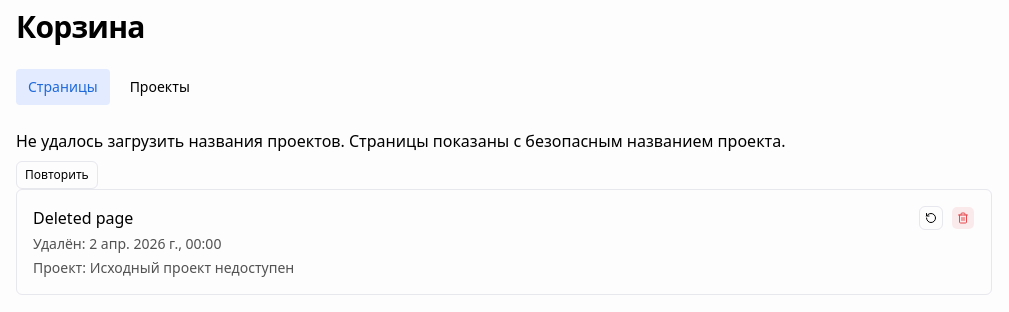
Test: корзина › оставляет страницы видимыми с fallback и retry при ошибке списка активных проектов
Expected: the text "Deleted page" is shown, [33,207,133,229]
Expected: the text "Проект: Исходный проект недоступен" is shown, [33,258,294,278]
Click the button "Повторить".
click(57, 175)  # box [16,161,98,189]
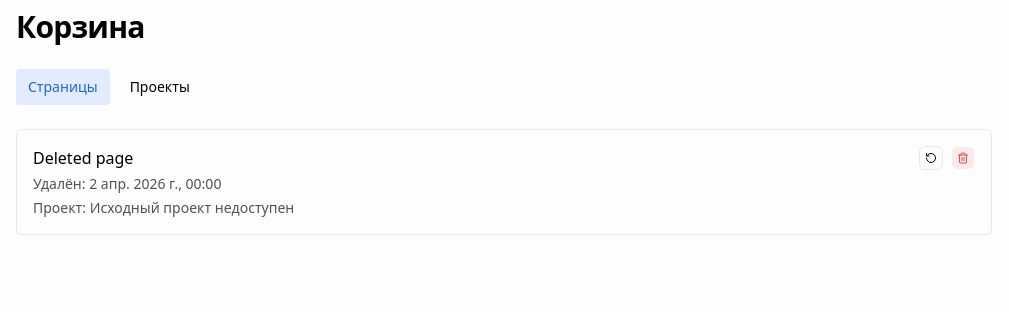
Expected: the text "Deleted page" is shown, [33,147,133,169]
Now the message is gone
